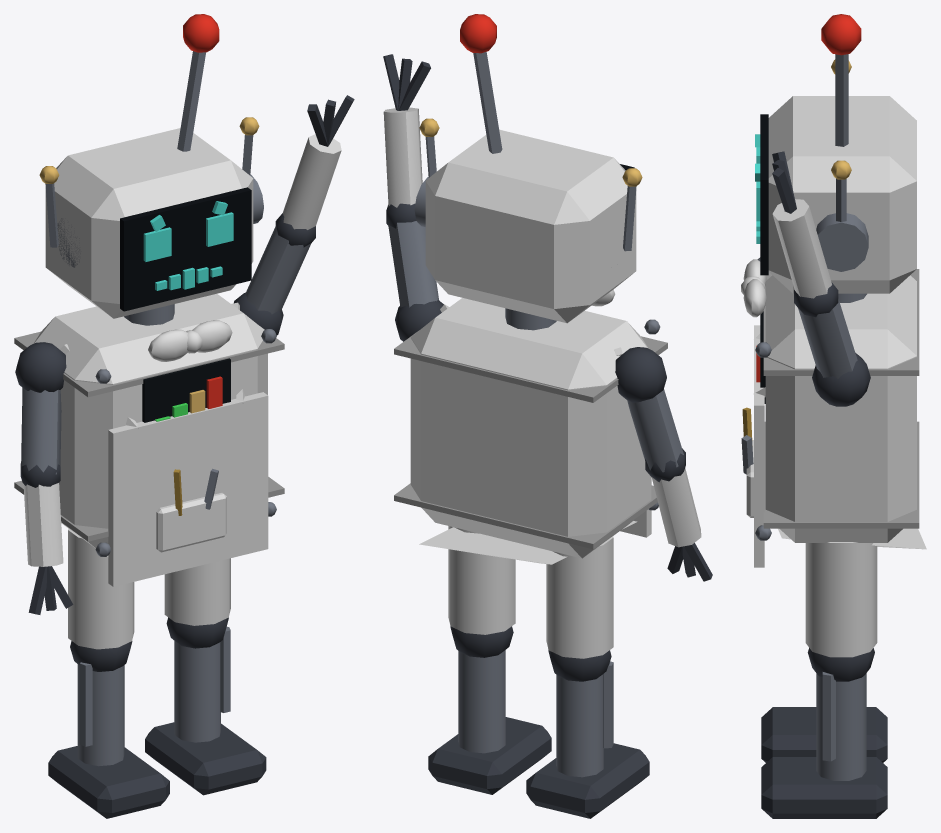
The model's file is alien_robot.fbx.
3 renders of one model, left to right at view 1: azimuth 30°, elevation 25°; view 2: azimuth 150°, elevation 25°; view 3: azimuth 270°, elevation 25°, orthographic. The views are drawn at different scales.
Visible parts, largest first — view 1: alien_robot, alien_robot__gesture; view 2: alien_robot, alien_robot__gesture; view 3: alien_robot, alien_robot__gesture.
Boxes of the visible parts, x1,y1,x2,y2 form: alien_robot: (14,14,284,818); alien_robot__gesture: (234,95,354,335); alien_robot: (394,14,712,818); alien_robot__gesture: (383,54,443,341); alien_robot: (741,14,926,818); alien_robot__gesture: (772,151,870,406).
Size of the model in its own units: 0.1883 by 0.415 by 0.0884.
